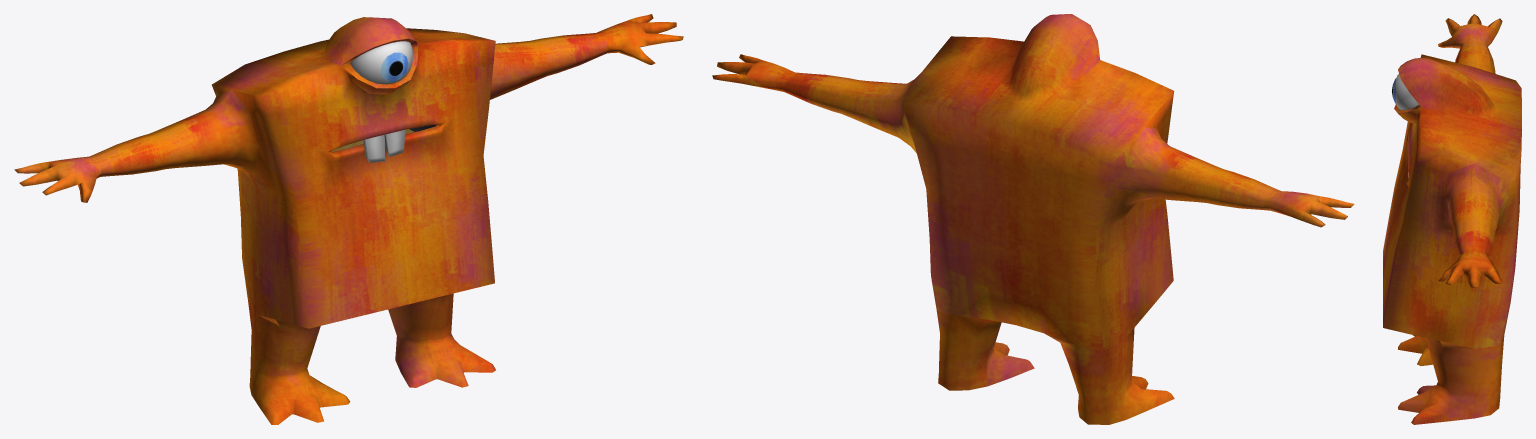
The model's file is beta.FBX.
3 views of the same model, side by side, from view 1: azimuth 30°, elevation 25°; view 2: azimuth 150°, elevation 25°; view 3: azimuth 270°, elevation 25° (orthographic). The views are drawn at different scales.
Parts seen in each view (by area): view 1: beta; view 2: beta; view 3: beta.
Boxes of the visible parts, <box> form: beta: <box>14,14,683,424</box>; beta: <box>712,14,1354,424</box>; beta: <box>1383,14,1521,424</box>.
Size of the model in its own units: 2.68 by 1.46 by 0.5786.
Materials: 1 (1 with a texture image).
